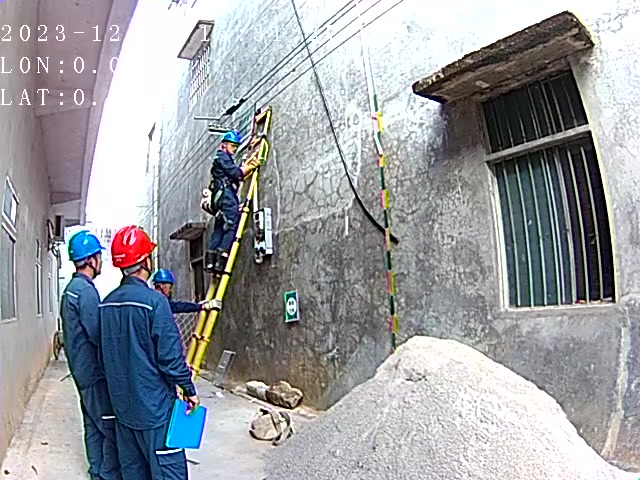downsuit: (116, 422, 188, 480), (74, 386, 113, 480), (209, 192, 242, 253)
halt: (110, 224, 159, 283), (68, 230, 105, 276), (152, 269, 177, 295), (221, 132, 241, 152)
hand: (184, 392, 201, 417)
inear: (85, 256, 97, 273), (142, 255, 153, 273)
longglove: (239, 157, 260, 180)
person: (98, 224, 199, 480), (58, 230, 114, 480), (200, 133, 252, 275), (150, 267, 222, 323)
shoe: (202, 250, 230, 273)
support: (146, 262, 223, 318)
upsuit: (97, 277, 198, 430), (57, 273, 107, 387), (208, 150, 245, 190)
wglove: (200, 296, 223, 314)
worksign: (283, 288, 298, 324)
